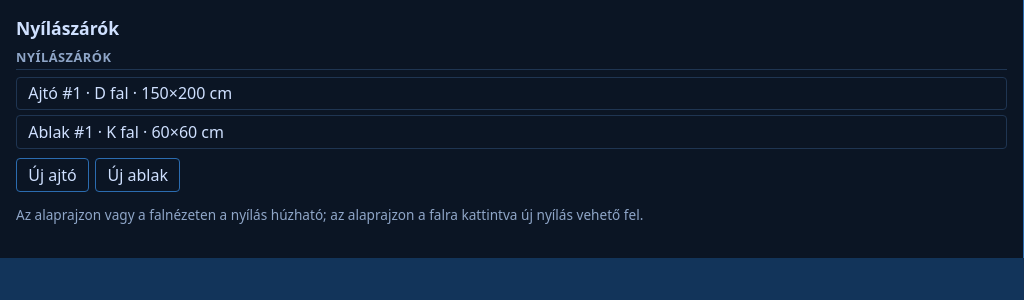
no free spot: message and nothing added
Step 1. Click the button "Új ajtó" → (52,175), box [16,158,89,192]
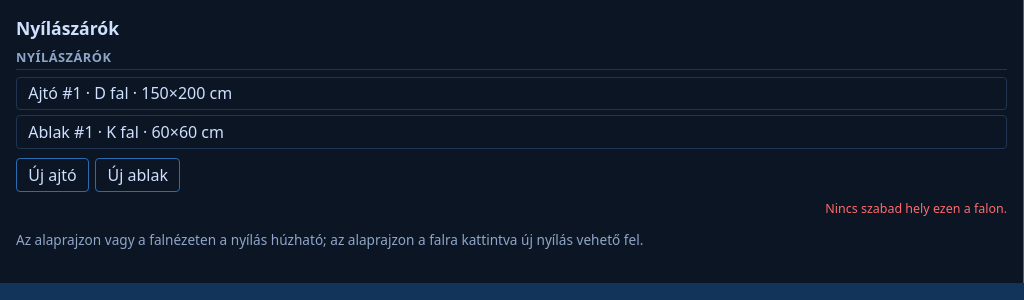
Now the text "Nincs szabad hely ezen a falon." is shown, box [825,200,1007,217]
